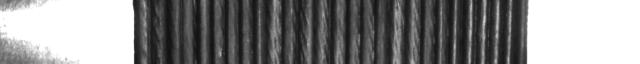Couter: (298, 0, 314, 64), (197, 0, 211, 64), (182, 0, 196, 64), (168, 0, 182, 64), (153, 0, 167, 64), (138, 0, 152, 64), (212, 0, 226, 64), (225, 0, 239, 64), (239, 0, 253, 64), (253, 0, 267, 64), (267, 0, 281, 64), (282, 0, 296, 64), (316, 0, 330, 64), (333, 0, 347, 64), (347, 0, 361, 64), (361, 0, 375, 64), (376, 0, 390, 64), (391, 0, 405, 64), (406, 0, 420, 64), (422, 0, 436, 64), (436, 0, 450, 64), (450, 0, 464, 64), (463, 0, 477, 64), (476, 0, 490, 64), (490, 0, 504, 64), (504, 0, 518, 64), (517, 0, 531, 64)
